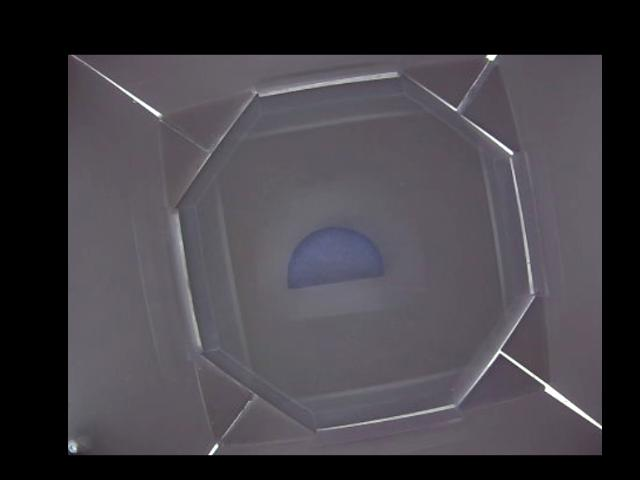Mooli: (284, 228, 386, 286)
